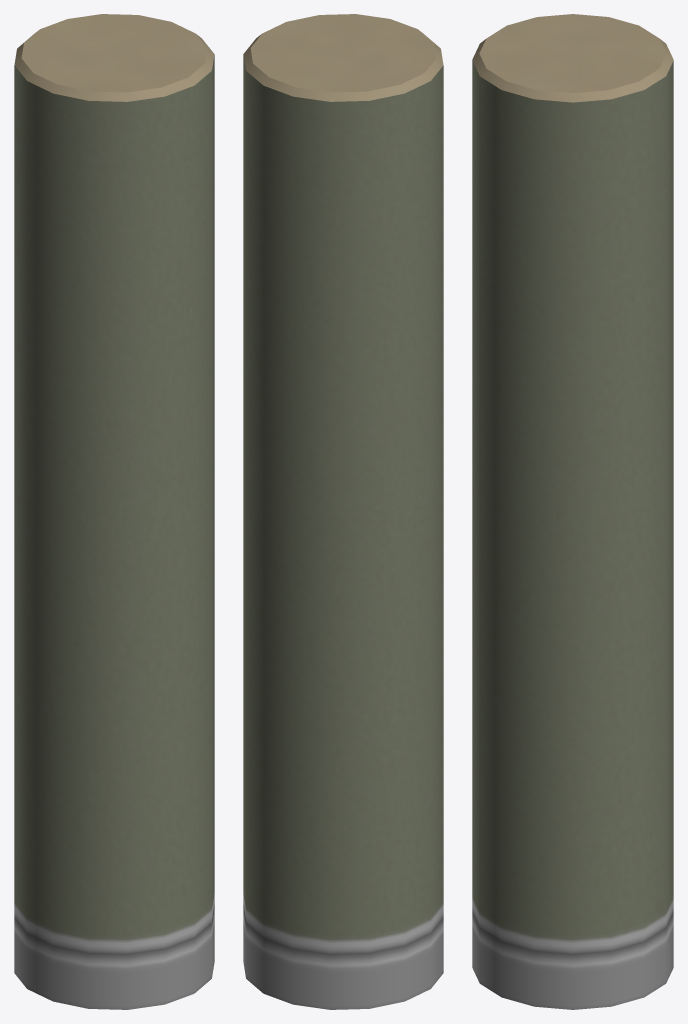
The model's file is column3_1.fbx.
3 renders of one model, left to right at view 1: azimuth 30°, elevation 25°; view 2: azimuth 150°, elevation 25°; view 3: azimuth 270°, elevation 25°, orthographic.
Parts seen in each view (by area): view 1: column3_a; view 2: column3_a; view 3: column3_a.
Boxes of the visible parts, box(x1,y1,x2,y2) form: column3_a: box(14, 14, 214, 1009); column3_a: box(243, 14, 443, 1009); column3_a: box(472, 14, 673, 1009).
Bounding box in the file's own units: 80 × 400 × 80.
